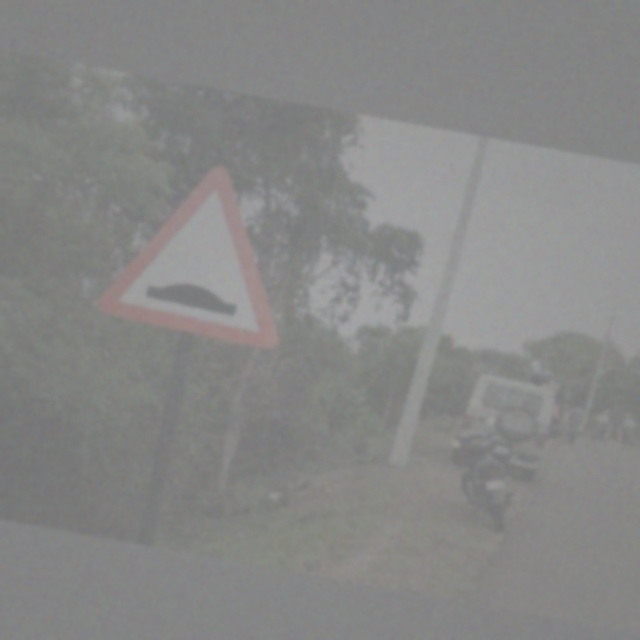Dangerous_Dip: (100, 148, 305, 353)
